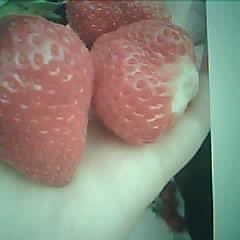straw-ripe: (0, 18, 96, 188)
